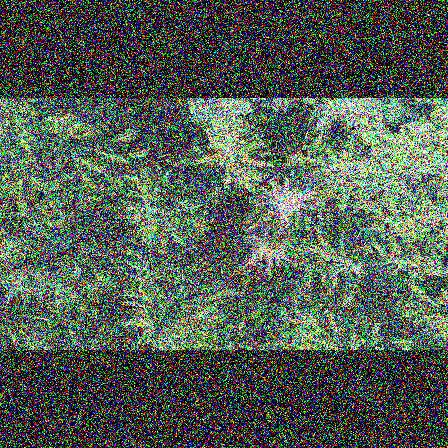Dead: (246, 170, 317, 231), (232, 235, 294, 278)
